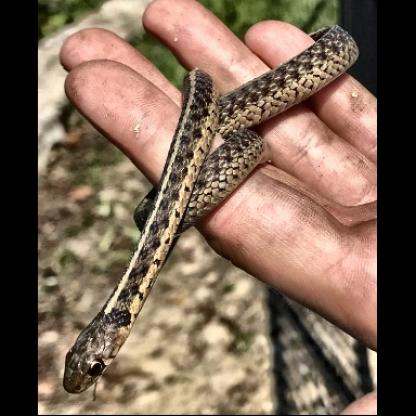Snake: (62, 25, 358, 394)
